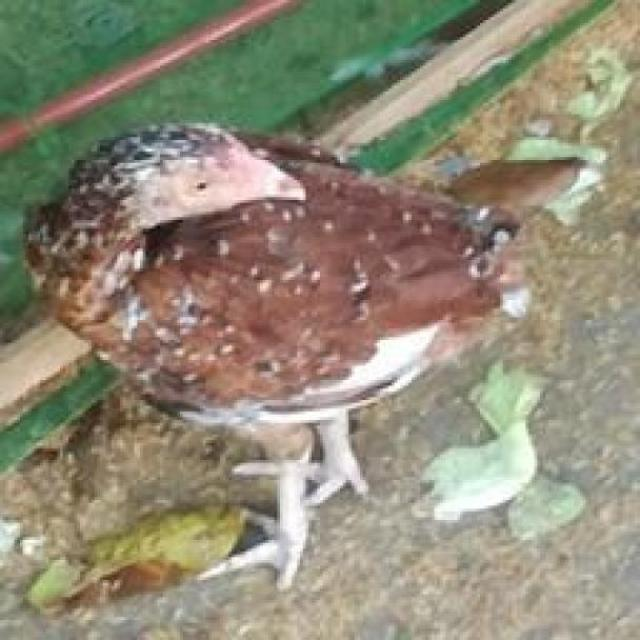Chicken: (21, 118, 590, 616)
